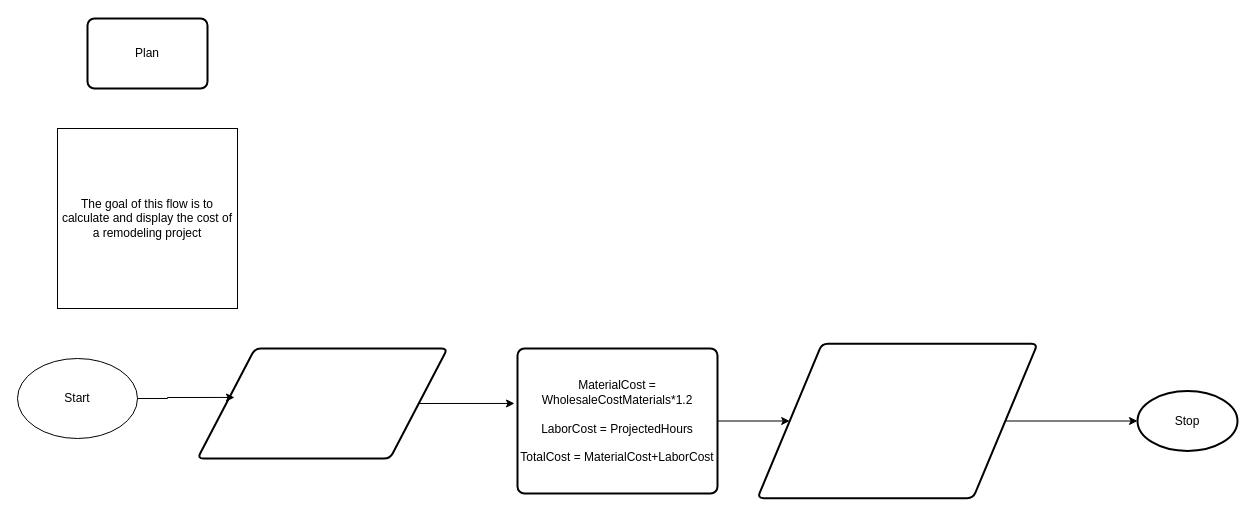
This 1256x516 diagram has some shape labels left out. The shapes that lost their labels are listed below. From the top down, each one's box as (x1, y1, x2, y2) in pixels, then its label:
(196, 347, 448, 459): Input ProjectedHours Input WholesaleCostMaterials
(756, 342, 1038, 499): Print "Total Cost of Job:" +TotalCost Print "End of program"
